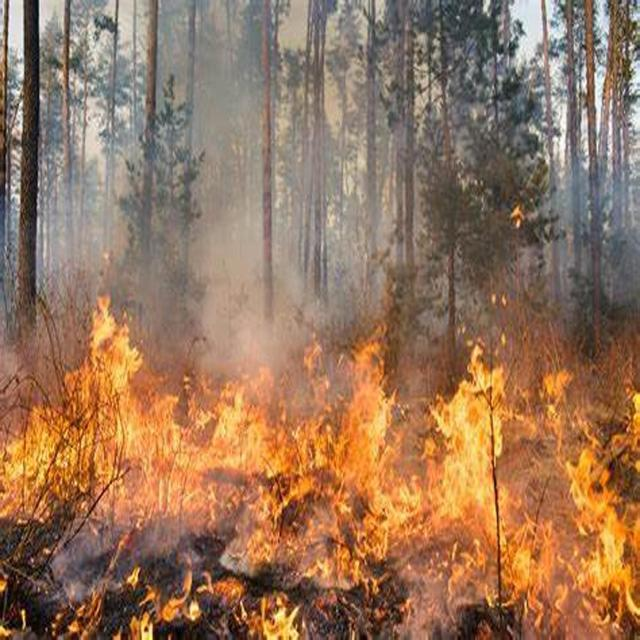Fire: (547, 425, 640, 621), (446, 310, 499, 554), (73, 282, 136, 482), (338, 341, 380, 522), (192, 386, 278, 462), (260, 586, 296, 638)
Smoke: (180, 126, 302, 363)
